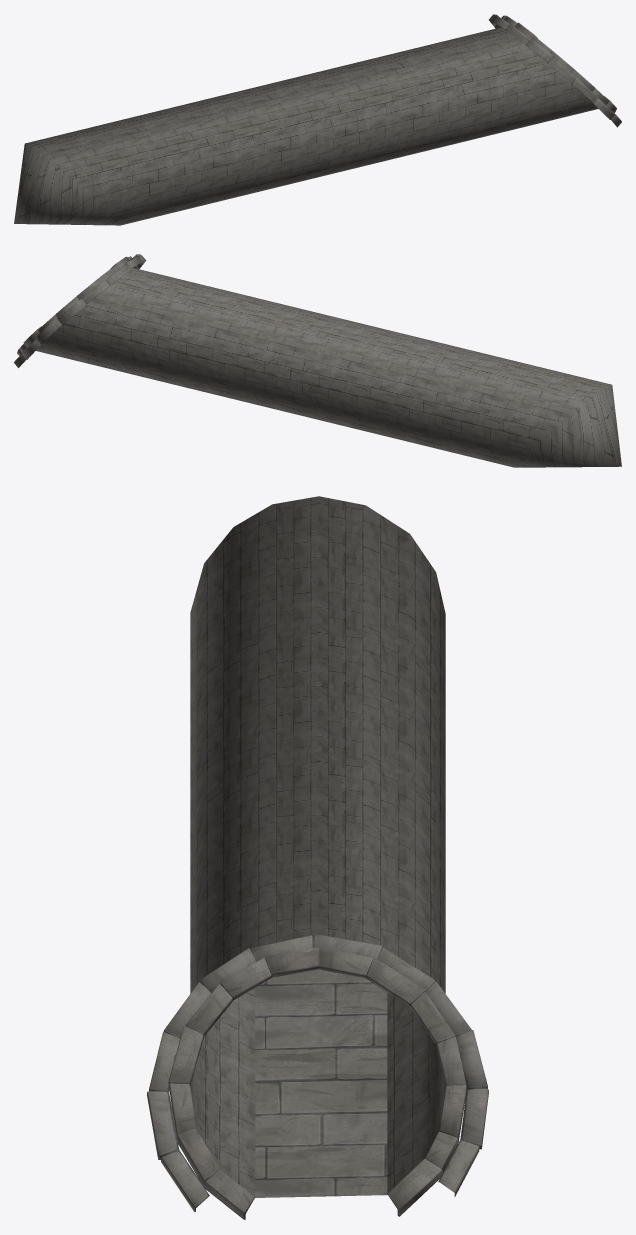
File: SM_ENV_LKNVLD_Ground_Hill_Right_WaterTunnel.FBX
3 renders of one model, top to bottom at view 1: azimuth 30°, elevation 25°; view 2: azimuth 150°, elevation 25°; view 3: azimuth 270°, elevation 25°, orthographic. The views are drawn at different scales.
Parts seen in each view (by area): view 1: SM_ENV_LKNVLD_Ground_Hill_Right_WaterTunnel; view 2: SM_ENV_LKNVLD_Ground_Hill_Right_WaterTunnel; view 3: SM_ENV_LKNVLD_Ground_Hill_Right_WaterTunnel.
Boxes of the visible parts, <box> form: SM_ENV_LKNVLD_Ground_Hill_Right_WaterTunnel: <box>14,14,621,225</box>; SM_ENV_LKNVLD_Ground_Hill_Right_WaterTunnel: <box>14,254,621,467</box>; SM_ENV_LKNVLD_Ground_Hill_Right_WaterTunnel: <box>147,496,488,1219</box>.
Size of the model in its own units: 2939 by 496 by 746.
